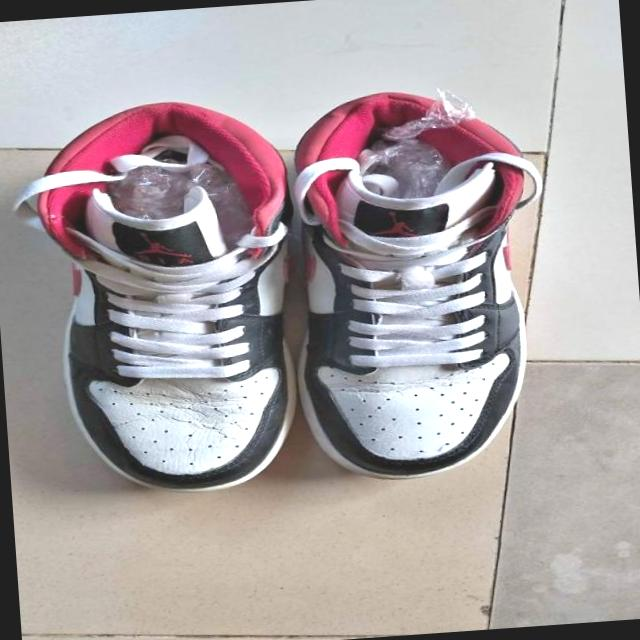nike_fake_jordan: (17, 90, 323, 504), (276, 83, 556, 486)
